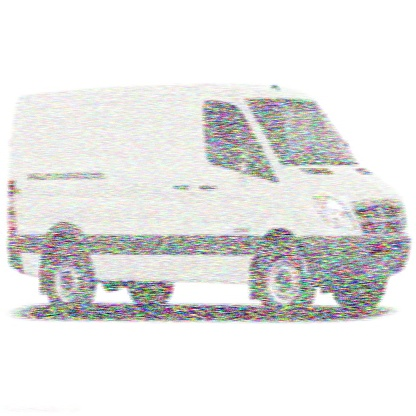Vehicle: (11, 87, 410, 322)
